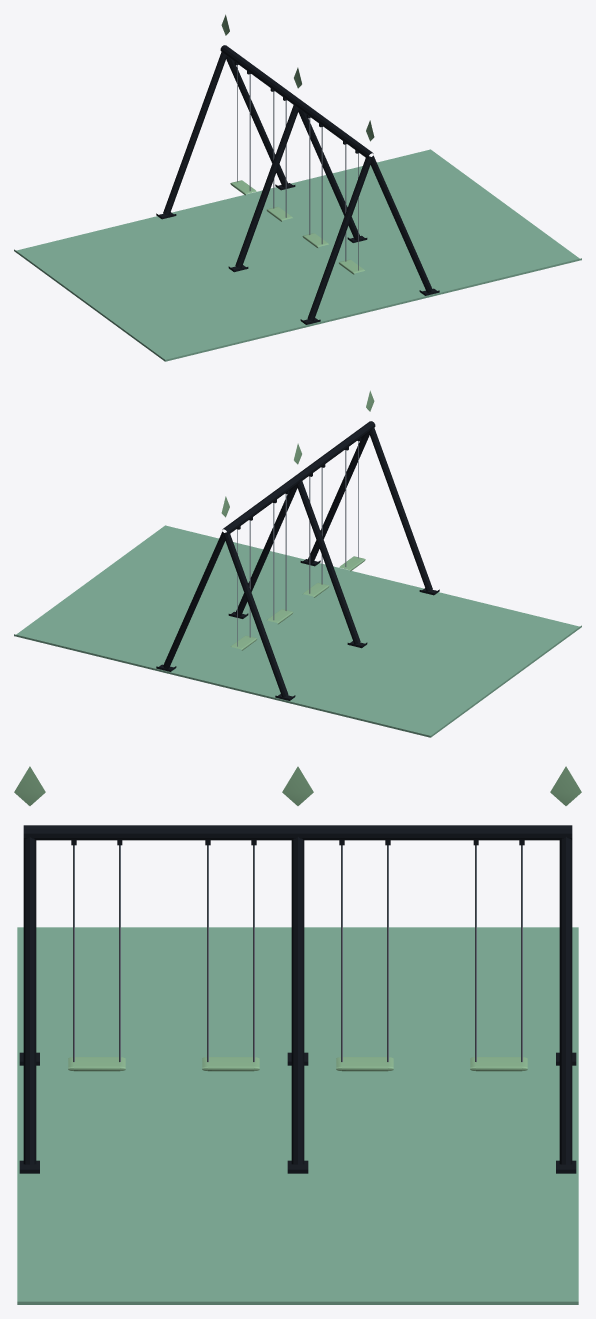
The model's file is tt_swing_set.glb.
The picture shows the model from 3 angles, top to bottom: view 1: azimuth 30°, elevation 25°; view 2: azimuth 150°, elevation 25°; view 3: azimuth 270°, elevation 25°; orthographic projection. The views are drawn at different scales.
Visible parts, largest first — view 1: Safety_Pad, Swing_Frame, Swing3_Chains; view 2: Safety_Pad, Swing_Frame, Swing2_Chains; view 3: Safety_Pad, Swing_Frame, Leaf_Crests, Swing1_Chains, Swing2_Chains, Swing3_Chains, Swing4_Chains, Swing1_Seat, Swing2_Seat, Swing3_Seat, Swing4_Seat.
Part boxes in pixels (left/top/right/bottom): Safety_Pad: left=14, top=149, right=581, bottom=361; Swing_Frame: left=156, top=45, right=439, bottom=324; Swing3_Chains: left=309, top=118, right=322, bottom=244; Safety_Pad: left=14, top=525, right=581, bottom=737; Swing_Frame: left=156, top=421, right=439, bottom=700; Swing2_Chains: left=273, top=494, right=286, bottom=620; Safety_Pad: left=17, top=927, right=578, bottom=1304; Swing_Frame: left=19, top=825, right=576, bottom=1173; Leaf_Crests: left=14, top=766, right=581, bottom=805; Swing1_Chains: left=475, top=845, right=522, bottom=1061; Swing2_Chains: left=341, top=845, right=388, bottom=1061; Swing3_Chains: left=207, top=845, right=254, bottom=1061; Swing4_Chains: left=73, top=845, right=120, bottom=1061; Swing1_Seat: left=470, top=1057, right=527, bottom=1071; Swing2_Seat: left=336, top=1057, right=393, bottom=1071; Swing3_Seat: left=202, top=1057, right=259, bottom=1071; Swing4_Seat: left=68, top=1057, right=125, bottom=1071.
Size of what is drawn, in the model's own units: 7 by 3.03 by 4.45.
Materials: 4 (2 with a texture image).
